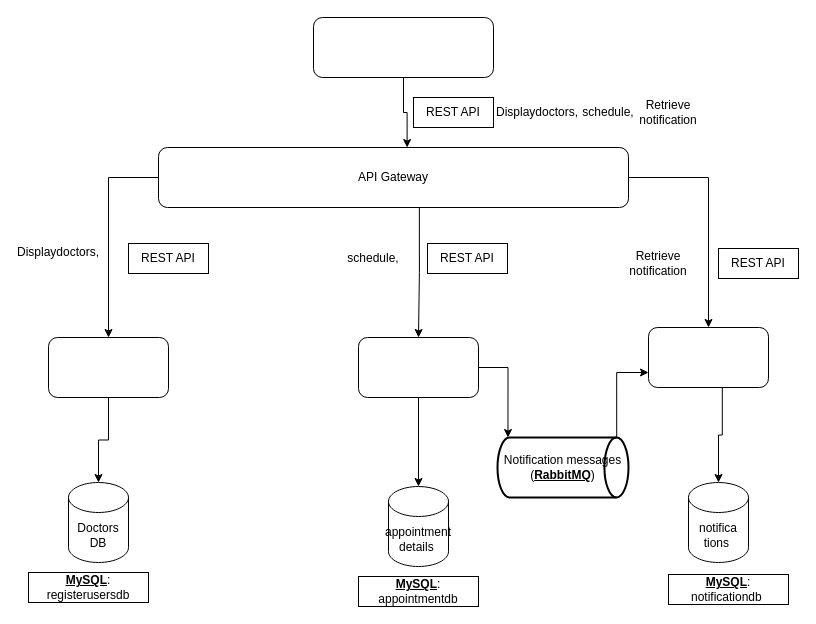
Image size: 816x624. Some labels were removed from this diagram. The shapes that lost their labels are listed below. From the top down, each one's centre as x and y in pixels, then its label:
At (x=403, y=47): "Front End UI => AngularJS".
At (x=108, y=367): "Display Doctors ( Django App)".
At (x=418, y=367): "Appointment Scheduling ( Django App)".
At (x=708, y=357): "Notification ( Django App)".
